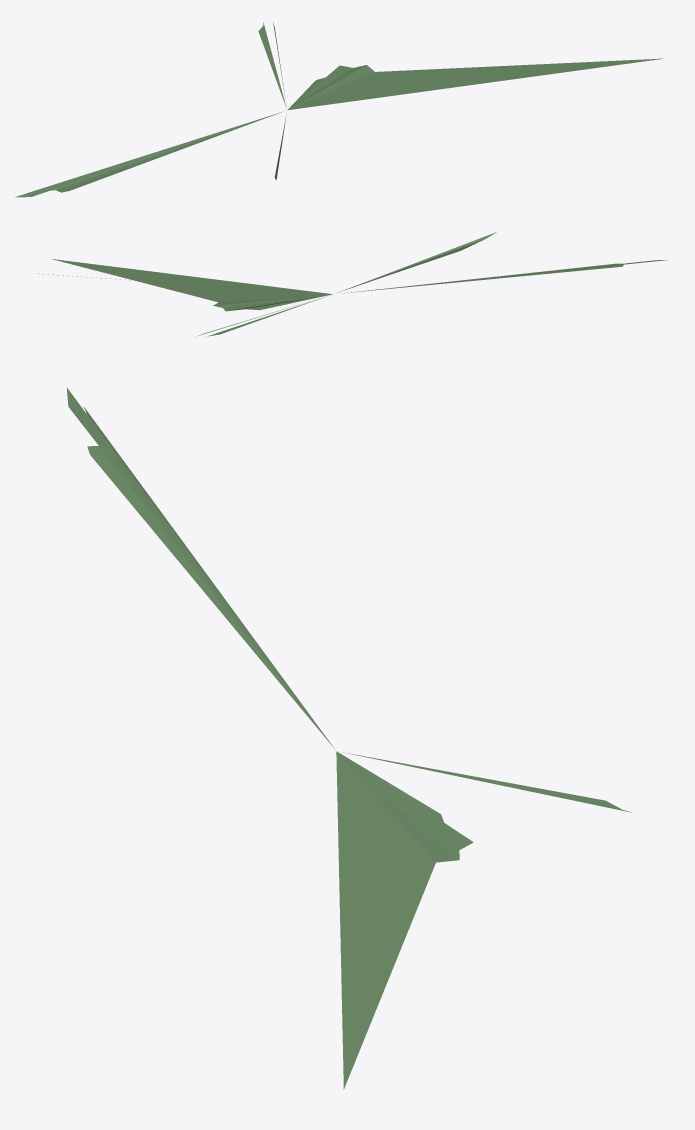
The model's file is c_1669_17830_forest.glb.
3 views of the same model, one above another, from view 1: azimuth 30°, elevation 25°; view 2: azimuth 150°, elevation 25°; view 3: azimuth 270°, elevation 25° (orthographic). The views are drawn at different scales.
Visible parts, largest first — view 1: geometry_0; view 2: geometry_0; view 3: geometry_0.
Boxes of the visible parts, <box> form: geometry_0: <box>15,21,663,197</box>; geometry_0: <box>38,232,667,336</box>; geometry_0: <box>66,387,632,1089</box>.
Size of the model in its own units: 1075 by 152 by 535.
